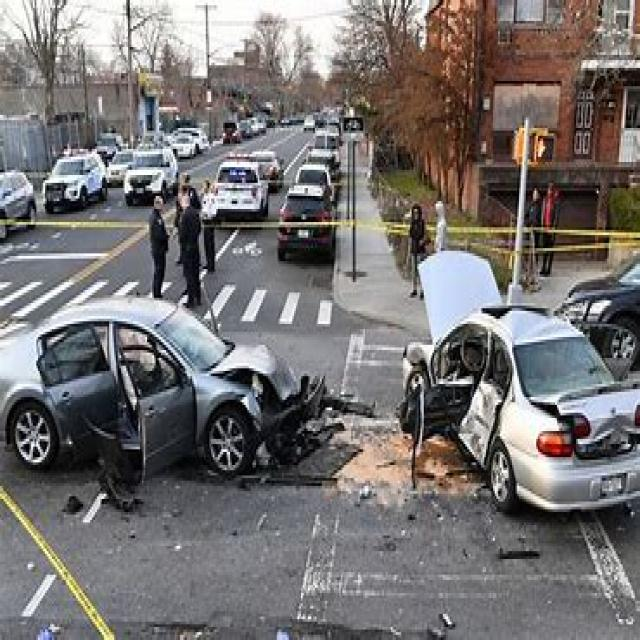Accident: (43, 96, 640, 640)
